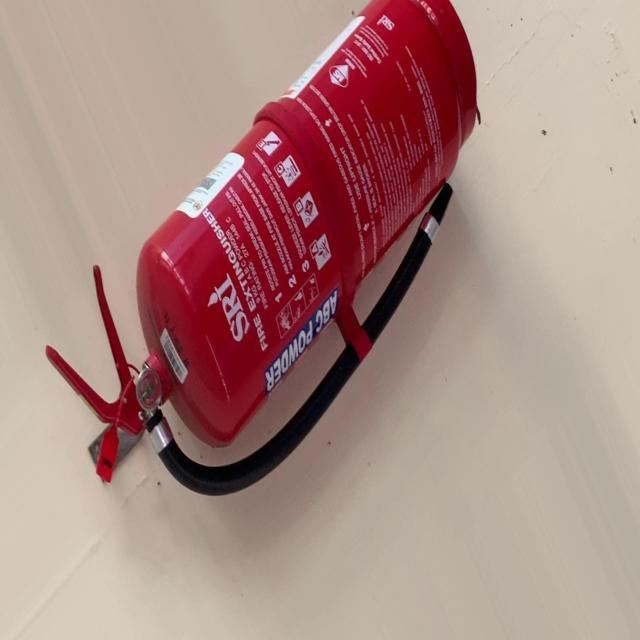fire_extinguisher: (42, 1, 480, 503)
